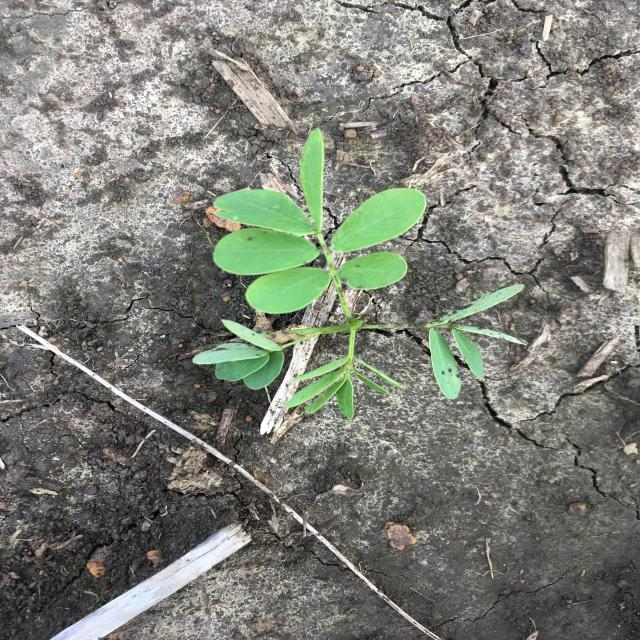Sicklepod: (190, 127, 533, 420)
